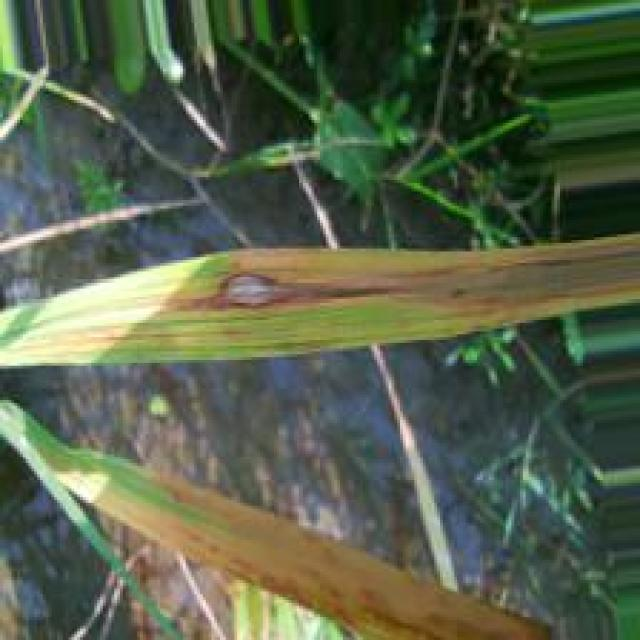Leaf_Blast: (139, 236, 639, 325)
